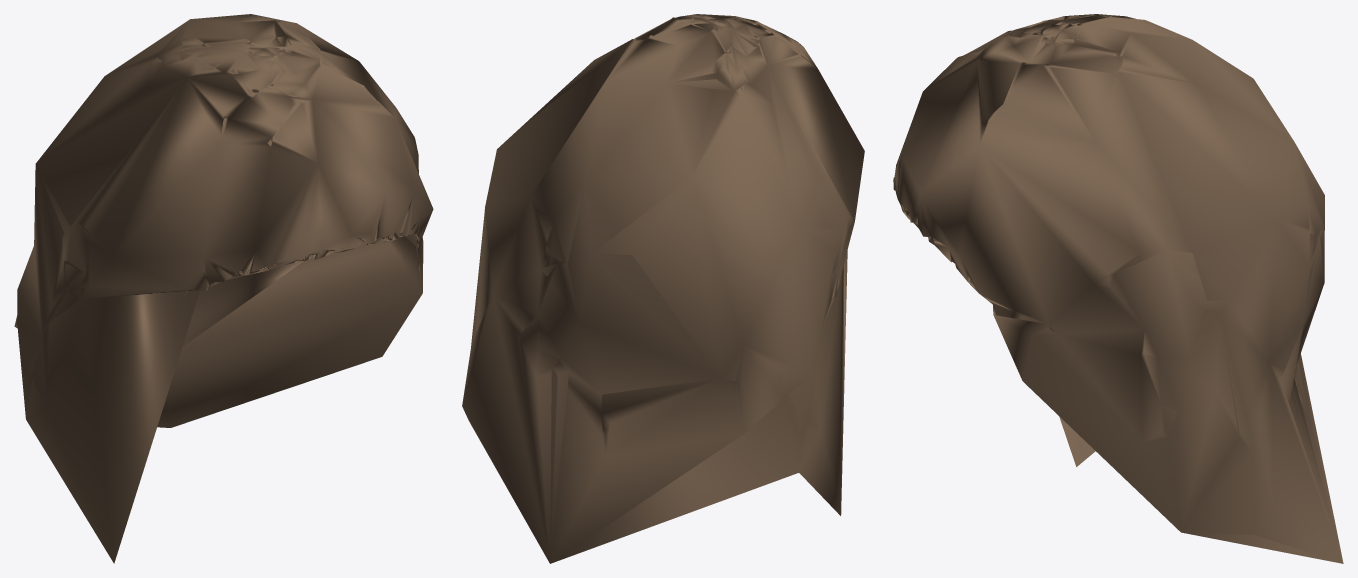
Rendered from hair32-female-long-a3.glb.
3 renders of one model, left to right at view 1: azimuth 30°, elevation 25°; view 2: azimuth 150°, elevation 25°; view 3: azimuth 270°, elevation 25°, orthographic. The views are drawn at different scales.
Visible parts, largest first — view 1: hair32-long; view 2: hair32-long; view 3: hair32-long.
Boxes of the visible parts, x1=… form: hair32-long: x1=14, y1=14, x2=433, y2=563; hair32-long: x1=462, y1=14, x2=864, y2=563; hair32-long: x1=893, y1=14, x2=1343, y2=563.
Size of the model in its own units: 0.1856 by 0.2554 by 0.2021.
